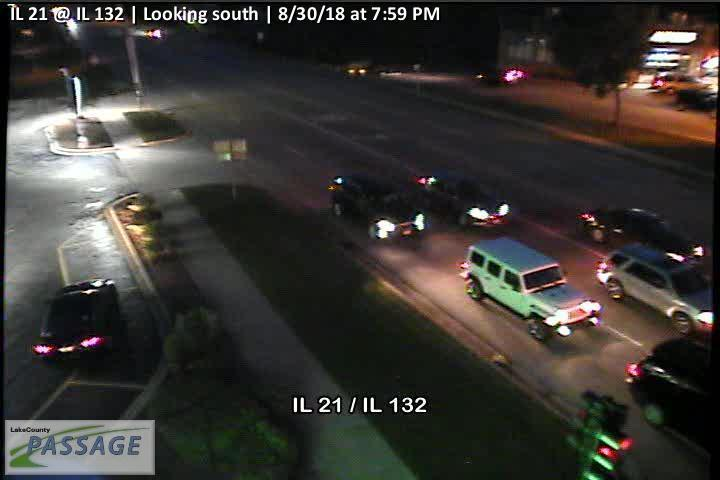SUV: (461, 236, 603, 343), (624, 339, 720, 463), (595, 242, 713, 335), (328, 174, 431, 243)
Sedan: (578, 204, 706, 265), (32, 278, 121, 364), (419, 170, 513, 228)
